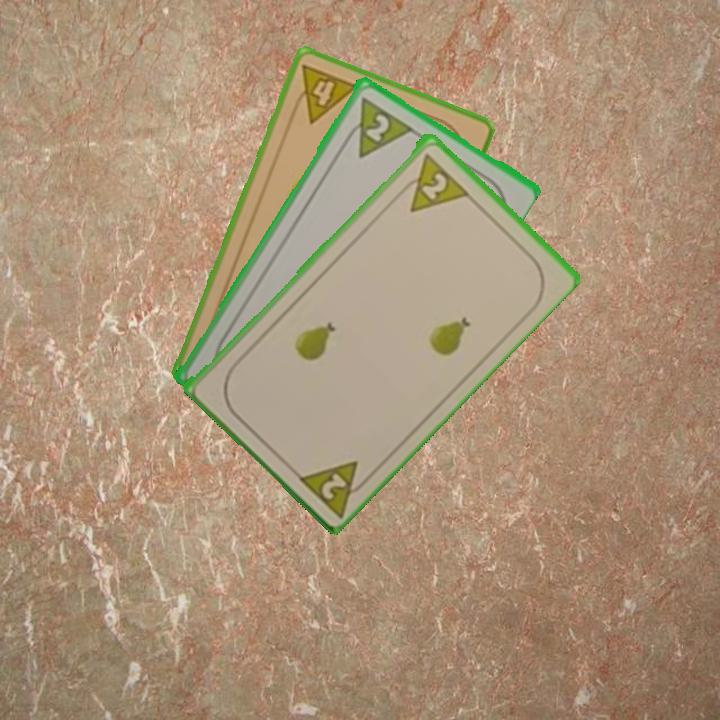2p: (292, 455, 376, 519), (337, 92, 414, 161), (394, 149, 470, 215)
4p: (286, 61, 361, 126)
